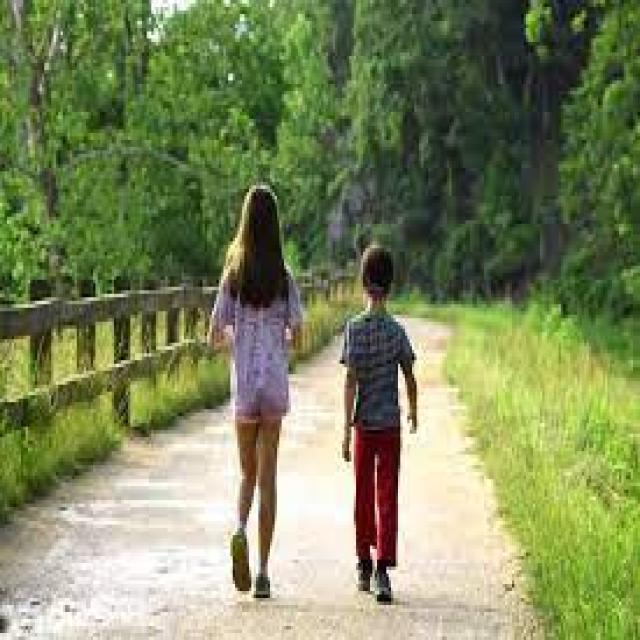Person: (212, 182, 301, 599), (341, 246, 418, 601)
